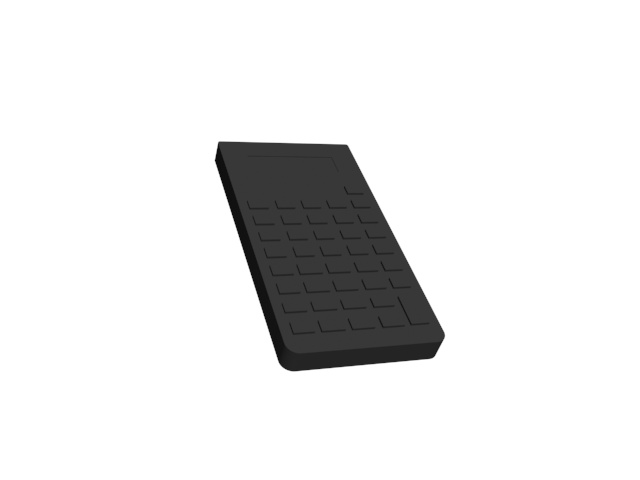calculator: (209, 137, 448, 376)
